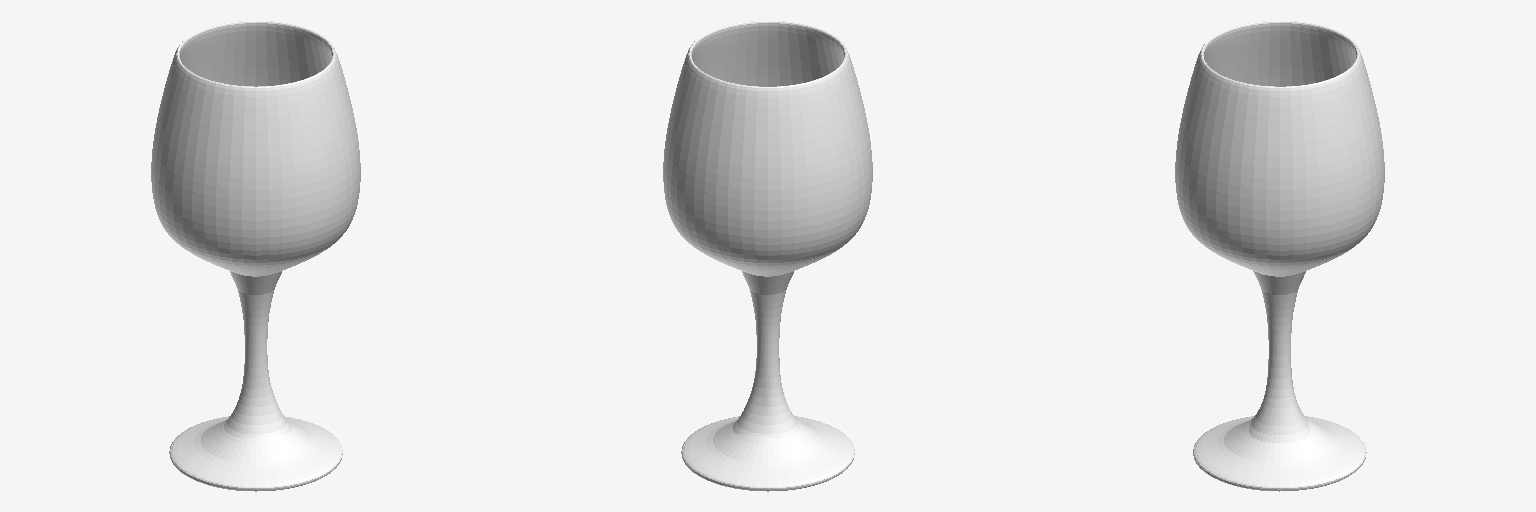
The robot description file, URDF, robot "apple":
<?xml version="0.0" ?>
<robot name="apple">
  <link name="baseLink">
    <contact>
      <lateral_friction value="1.0"/>
      <rolling_friction value="0.0"/>
      <contact_cfm value="0.0"/>
      <contact_erp value="1.0"/>
    </contact>
    <inertial>
      <origin rpy="1.57 0 0" xyz="0 0 -0.0"/>
       <mass value=".1"/>
       <inertia ixx="1" ixy="0" ixz="0" iyy="1" iyz="0" izz="1"/>
    </inertial>
    <visual>
      <origin rpy="1.57 0 0" xyz="0 0 0"/>
      <geometry>
        <mesh filename="meshes/notextures/glass6.obj" scale="0.08 0.08 0.08"/>
      </geometry>
      <material name="glass">
        <color rgba="1 1 1 1"/>
      </material>
    </visual>
    <collision>
      <origin rpy="1.57 0 0" xyz="0 0 0"/>
      <geometry>
	 	<mesh filename="meshes/notextures/glass6.obj" scale="0.08 0.08 0.08"/>
      </geometry>
    </collision>
  </link>
</robot>

--- What the picture shows (computed from the rendered views, not written in the file) ---
The picture shows the robot from 3 angles, left to right: view 1: azimuth 30°, elevation 25°; view 2: azimuth 150°, elevation 25°; view 3: azimuth 270°, elevation 25°; orthographic projection.
Model apple with 1 links and 0 joints (none), rooted at baseLink, posed every joint at zero.
Links seen in each view (by area): view 1: baseLink; view 2: baseLink; view 3: baseLink.
Boxes of the visible links, box(x1,y1,x2,y2) form: baseLink: box(151, 20, 360, 491); baseLink: box(663, 20, 872, 491); baseLink: box(1175, 20, 1384, 491).
Bounding box of the posed robot: 0.0674 × 0.0674 × 0.1438 m (x, y, z).
Meshes: 1 distinct files referenced, 1 mesh visuals loaded (1 OBJ).